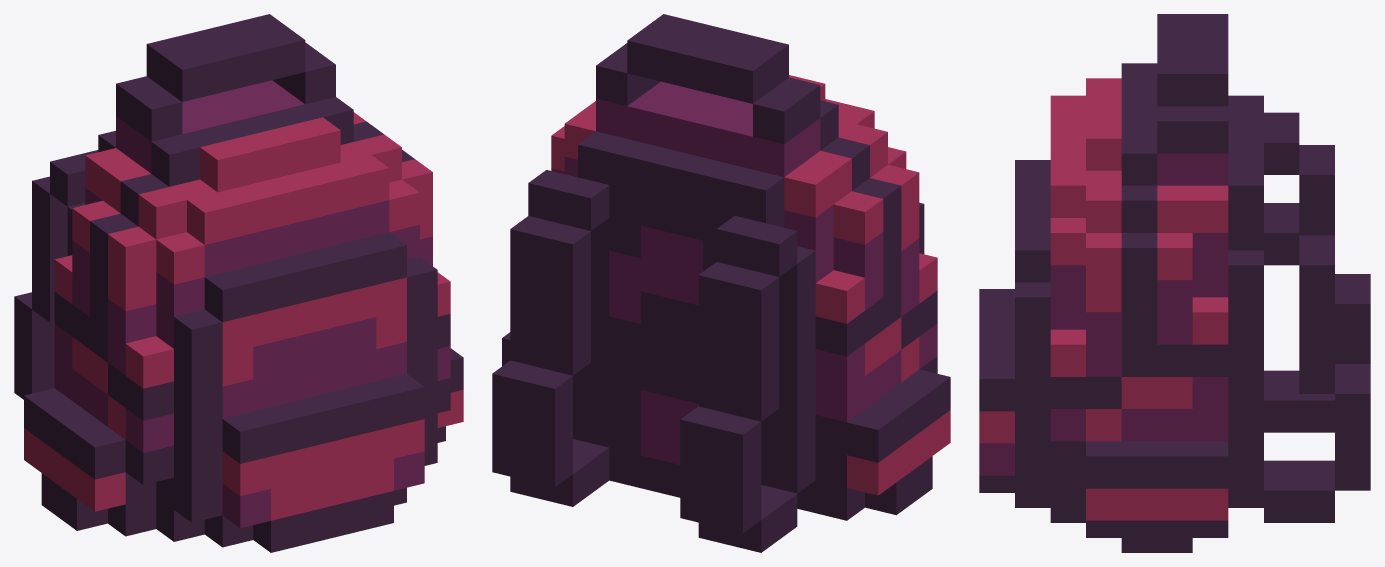
Rendered from Bag.obj.
The picture shows the model from 3 angles, left to right: view 1: azimuth 30°, elevation 25°; view 2: azimuth 150°, elevation 25°; view 3: azimuth 270°, elevation 25°; orthographic projection. The views are drawn at different scales.
Size of the model in its own units: 1.2 by 1.3 by 1.1.
1 material, 1 textured.
